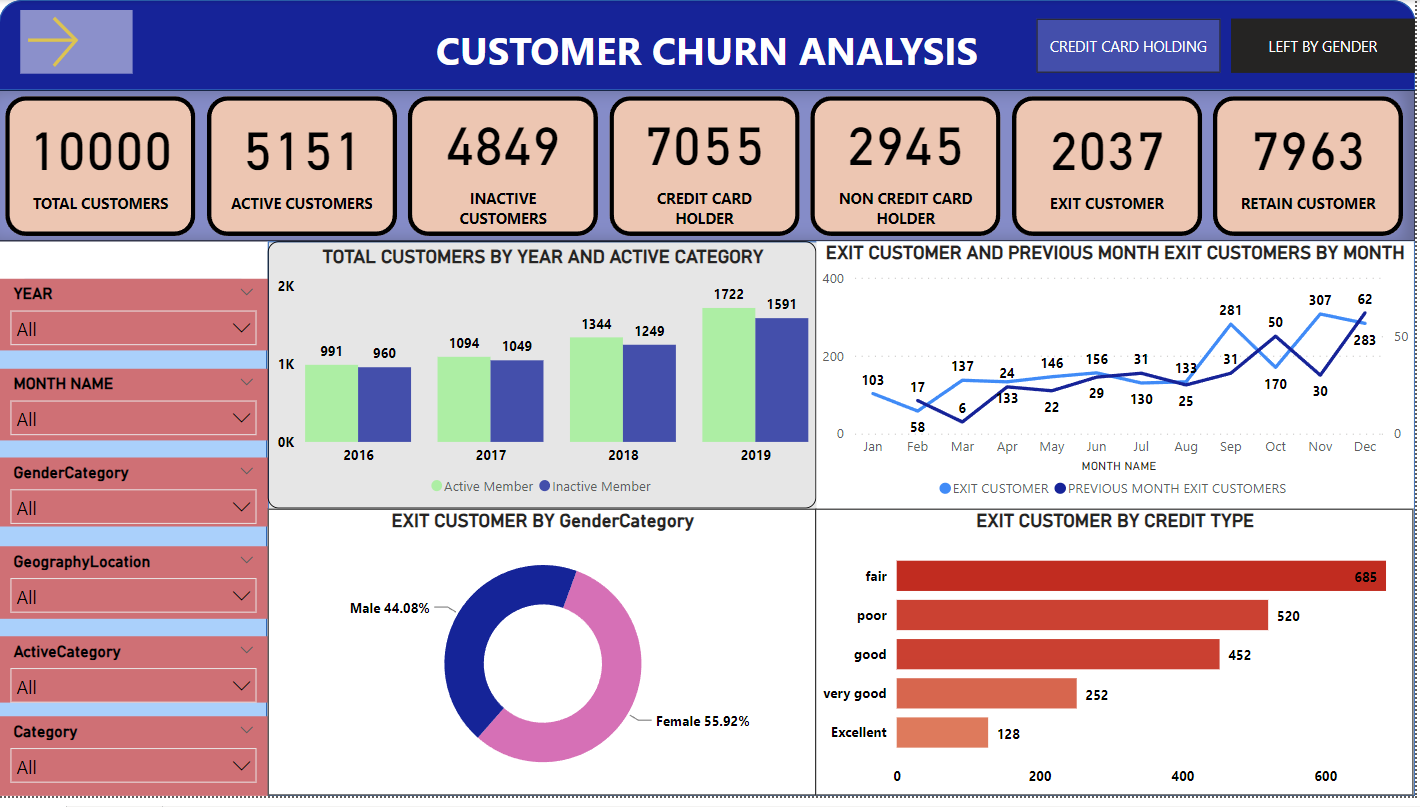

This screenshot's page, from the dashboard's own definition file:
{"tool":"powerbi","page":{"name":"Page 1","canvas":[1280,720],"ordinal":0},"visuals":[{"type":"cardVisual","fields":{"Data":["CALCULATIONS.TOTAL CUSTOMERS","CALCULATIONS.ACTIVE CUSTOMERS","CALCULATIONS.INACTIVE CUSTOMERS","CALCULATIONS.CREDIT CARD HOLDER","CALCULATIONS.NON CREDIT CARD HOLDER","CALCULATIONS.EXIT CUSTOMER","CALCULATIONS.RETAIN CUSTOMER"]},"box":[0,81.4,1280.6,136.8],"z":0},{"type":"shape","box":[0,0,1280.5,81.7],"z":1000},{"type":"shape","box":[0,252.1,242.6,467.5],"z":2000},{"type":"shape","box":[243,218.1,1037.6,501.9],"z":3000},{"type":"slicer","fields":{"Values":["DATE MASTER.YEAR"]},"box":[0,252.1,243,64.4],"z":4000},{"type":"slicer","fields":{"Values":["DATE MASTER.MONTH NAME"]},"box":[0,333.4,243,64.4],"z":5000},{"type":"slicer","fields":{"Values":["GENDER DATA.GenderCategory"]},"box":[0,413.7,243,62.2],"z":6000},{"type":"slicer","fields":{"Values":["GEOGRAPHY DATA.GeographyLocation"]},"box":[0,493.9,243,65.6],"z":7000},{"type":"slicer","fields":{"Values":["ACTIVE CUSTOMER.ActiveCategory"]},"box":[0,575.3,243,59.9],"z":8000},{"type":"slicer","fields":{"Values":["CREDIT DATA.Category"]},"box":[0,647.7,243,72.3],"z":9000},{"type":"clusteredColumnChart","title":"TOTAL CUSTOMERS BY YEAR AND ACTIVE CATEGORY","fields":{"Category":["DATE MASTER.YEAR","DATE MASTER.MONTH"],"Y":["CALCULATIONS.TOTAL CUSTOMERS"],"Series":["ACTIVE CUSTOMER.ActiveCategory"]},"box":[243,218.1,496.2,241.9],"z":10000},{"type":"lineChart","title":"EXIT CUSTOMER AND PREVIOUS MONTH EXIT CUSTOMERS BY MONTH ","fields":{"Category":["DATE MASTER.MONTH NAME"],"Y":["CALCULATIONS.EXIT CUSTOMER"],"Y2":["CALCULATIONS.PREVIOUS MONTH EXIT CUSTOMERS"]},"box":[739.2,218.1,540.3,241.9],"z":11000},{"type":"donutChart","title":"EXIT CUSTOMER BY GenderCategory","fields":{"Category":["GENDER DATA.GenderCategory"],"Y":["CALCULATIONS.EXIT CUSTOMER"]},"box":[242.6,460.4,495.9,259.2],"z":12000},{"type":"barChart","title":"EXIT CUSTOMER BY CREDIT TYPE","fields":{"Category":["Bank_Churn.CREDIT TYPE"],"Y":["CALCULATIONS.EXIT CUSTOMER"]},"box":[738.5,460.4,540.8,259.2],"z":13000},{"type":"bookmarkNavigator","box":[938.5,16.6,342,49.7],"z":14001},{"type":"actionButton","box":[19.2,9,101.7,57.6],"z":14002}]}

Visuals, with their boxes in screenshot pixels (x1, y1, x2, y2), scaled from the page's 1280x720 canvas onto the 1420x807 screenshot:
cardVisual - CALCULATIONS.TOTAL CUSTOMERS x CALCULATIONS.ACTIVE CUSTOMERS: (left=0, top=91, right=1419, bottom=245)
shape: (left=0, top=0, right=1419, bottom=92)
shape: (left=0, top=283, right=269, bottom=806)
shape: (left=270, top=244, right=1419, bottom=806)
slicer - DATE MASTER.YEAR: (left=0, top=283, right=270, bottom=355)
slicer - DATE MASTER.MONTH NAME: (left=0, top=374, right=270, bottom=446)
slicer - GENDER DATA.GenderCategory: (left=0, top=464, right=270, bottom=533)
slicer - GEOGRAPHY DATA.GeographyLocation: (left=0, top=554, right=270, bottom=627)
slicer - ACTIVE CUSTOMER.ActiveCategory: (left=0, top=645, right=270, bottom=712)
slicer - CREDIT DATA.Category: (left=0, top=726, right=270, bottom=806)
"TOTAL CUSTOMERS BY YEAR AND ACTIVE CATEGORY" clusteredColumnChart: (left=270, top=244, right=820, bottom=516)
"EXIT CUSTOMER AND PREVIOUS MONTH EXIT CUSTOMERS BY MONTH " lineChart: (left=820, top=244, right=1419, bottom=516)
"EXIT CUSTOMER BY GenderCategory" donutChart: (left=269, top=516, right=819, bottom=806)
"EXIT CUSTOMER BY CREDIT TYPE" barChart: (left=819, top=516, right=1419, bottom=806)
bookmarkNavigator: (left=1041, top=19, right=1419, bottom=74)
actionButton: (left=21, top=10, right=134, bottom=75)
